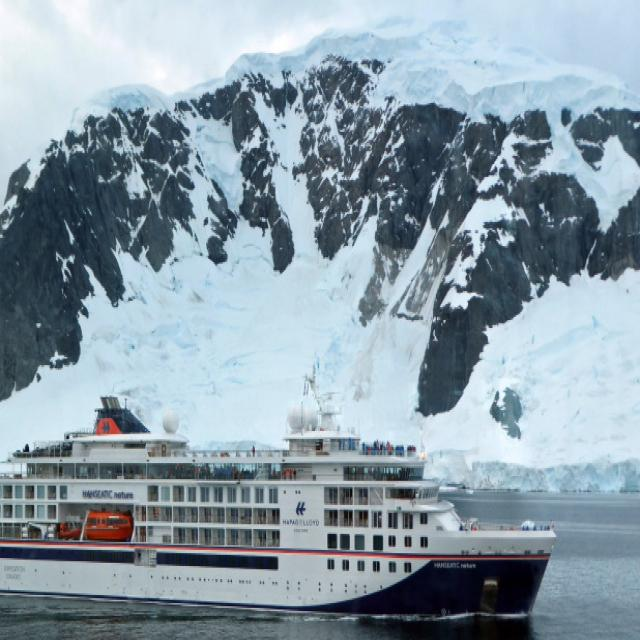cruises: (1, 390, 559, 630)
